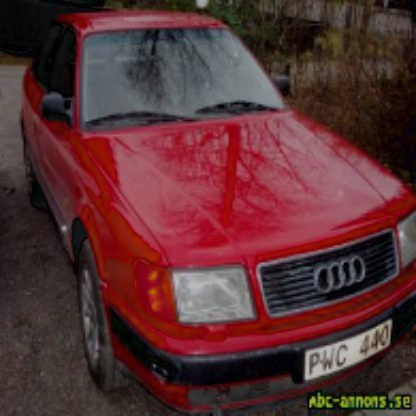Vehicle: (18, 13, 415, 415)
